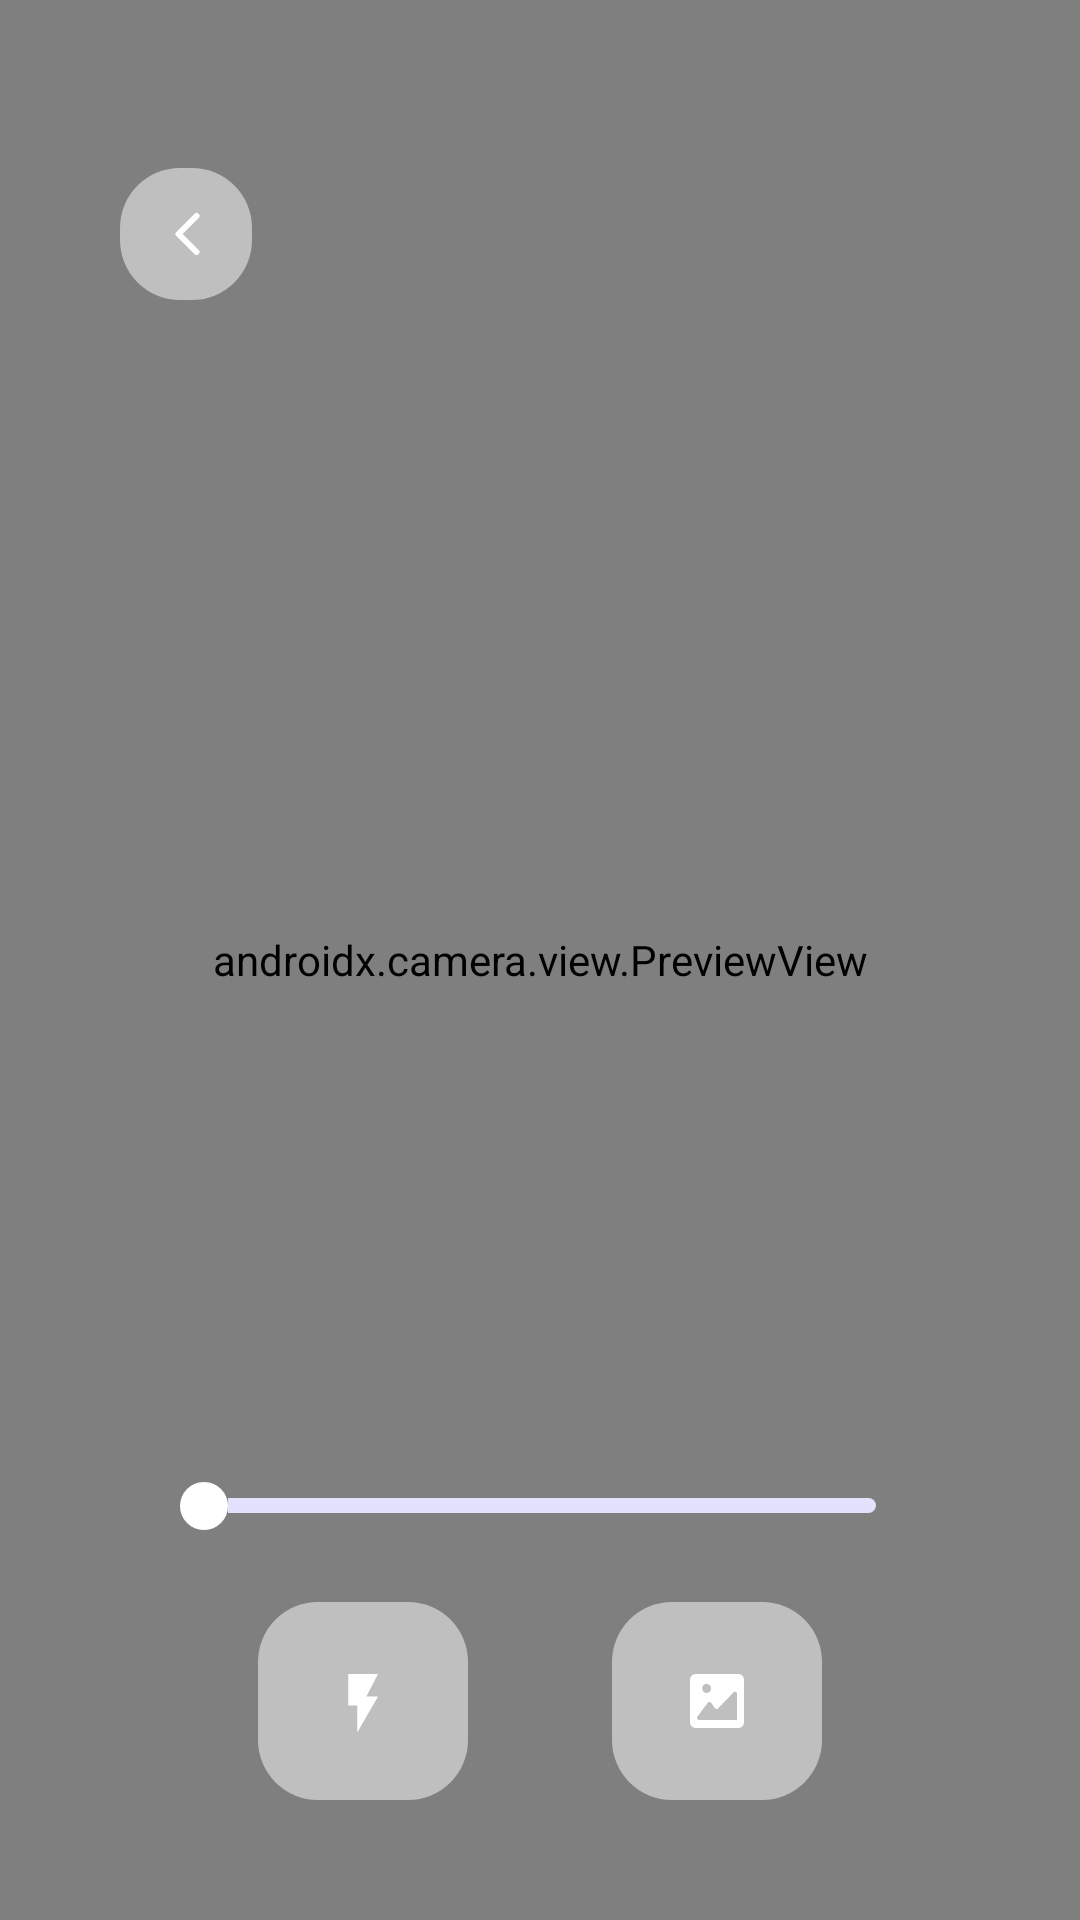

Screen size 1080px×1920px. Icon name, then its box in pixels as (x1, y1, x2, y2):
arrow left: (175, 213, 200, 255)
flash: (348, 1674, 378, 1732)
photo: (690, 1674, 744, 1728)
